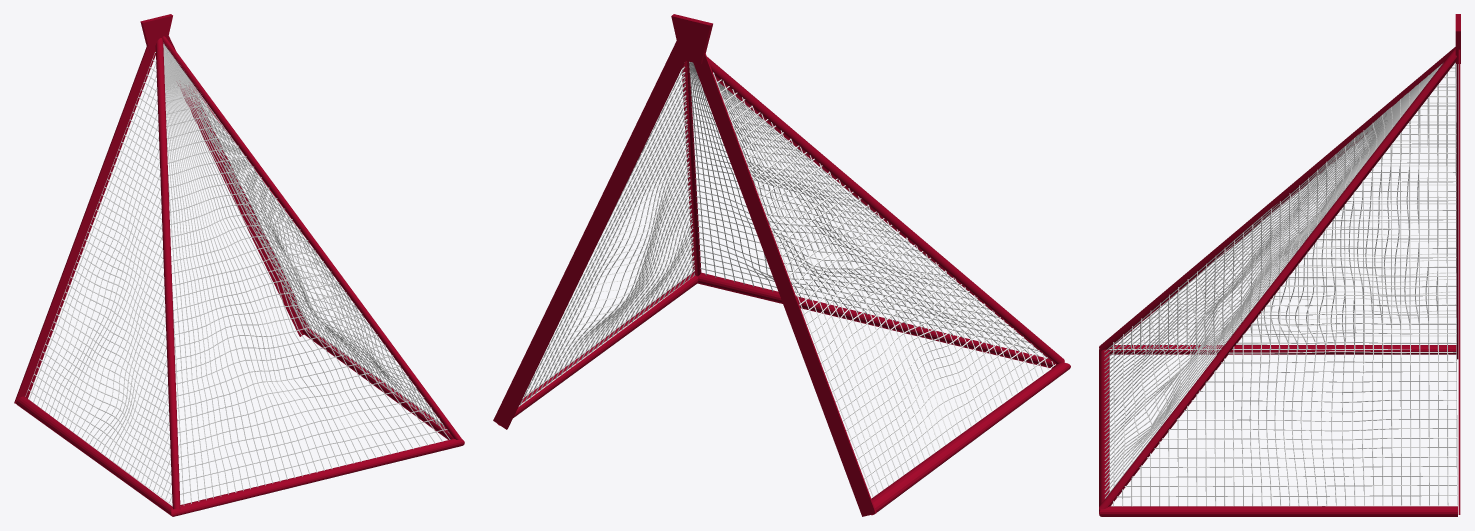
Rendered from LaCrosse_goal_use.fbx.
The picture shows the model from 3 angles, left to right: view 1: azimuth 30°, elevation 25°; view 2: azimuth 150°, elevation 25°; view 3: azimuth 270°, elevation 25°; orthographic projection. The views are drawn at different scales.
Parts seen in each view (by area): view 1: Plane.005, Plane.003, Plane.004, Cylinder.002, Plane.001, Cylinder, Cylinder.001, Plane, Plane.002; view 2: Plane.003, Plane.005, Plane.004, Cylinder.002, Plane.001, Plane, Cylinder, Cylinder.001, Plane.002; view 3: Plane.004, Plane.005, Plane.003, Cylinder.002, Cylinder.001, Cylinder, Plane, Plane.001.
Boxes of the visible parts, x1,y1,x2,y2 form: Plane.005: (163, 44, 450, 505); Plane.003: (25, 52, 172, 505); Plane.004: (164, 44, 449, 433); Cylinder.002: (16, 326, 464, 516); Plane.001: (14, 45, 155, 403); Cylinder: (155, 38, 180, 509); Cylinder.001: (162, 36, 462, 440); Plane: (167, 36, 308, 336); Plane.002: (140, 14, 172, 52); Plane.003: (713, 72, 1055, 497); Plane.005: (689, 61, 1048, 358); Plane.004: (518, 66, 694, 406); Cylinder.002: (497, 272, 1070, 515); Plane.001: (693, 53, 876, 516); Plane: (493, 41, 685, 429); Cylinder: (707, 57, 1064, 364); Cylinder.001: (682, 61, 701, 276); Plane.002: (671, 14, 712, 64); Plane.004: (1113, 62, 1457, 506); Plane.005: (1104, 63, 1442, 498); Plane.003: (1109, 64, 1456, 349); Cylinder.002: (1099, 345, 1457, 516); Cylinder.001: (1099, 47, 1456, 509); Cylinder: (1099, 47, 1455, 350); Plane: (1458, 49, 1460, 514); Plane.001: (1456, 64, 1458, 359).
Size of the model in its own units: 1942 by 2216 by 1766.
